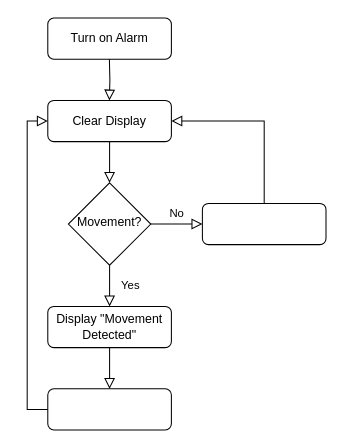
This 345x448 diagram has some shape labels left out. The shapes that lost their labels are listed below. From the top down, each one's centre as x and y in pixels, then its label:
point 263,223: Display "Movement not Detected"
point 109,409: Turn On LED
